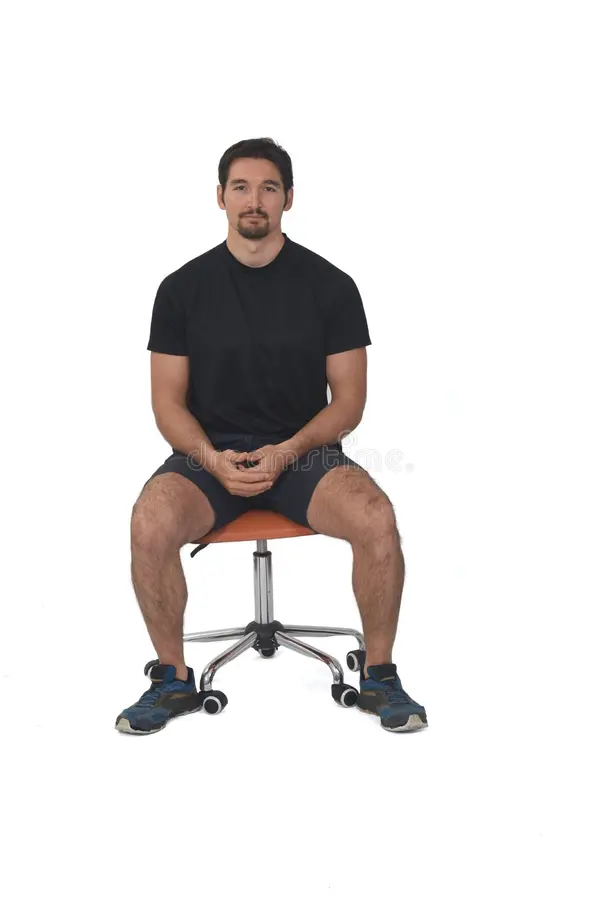Focused: (184, 108, 338, 306)
